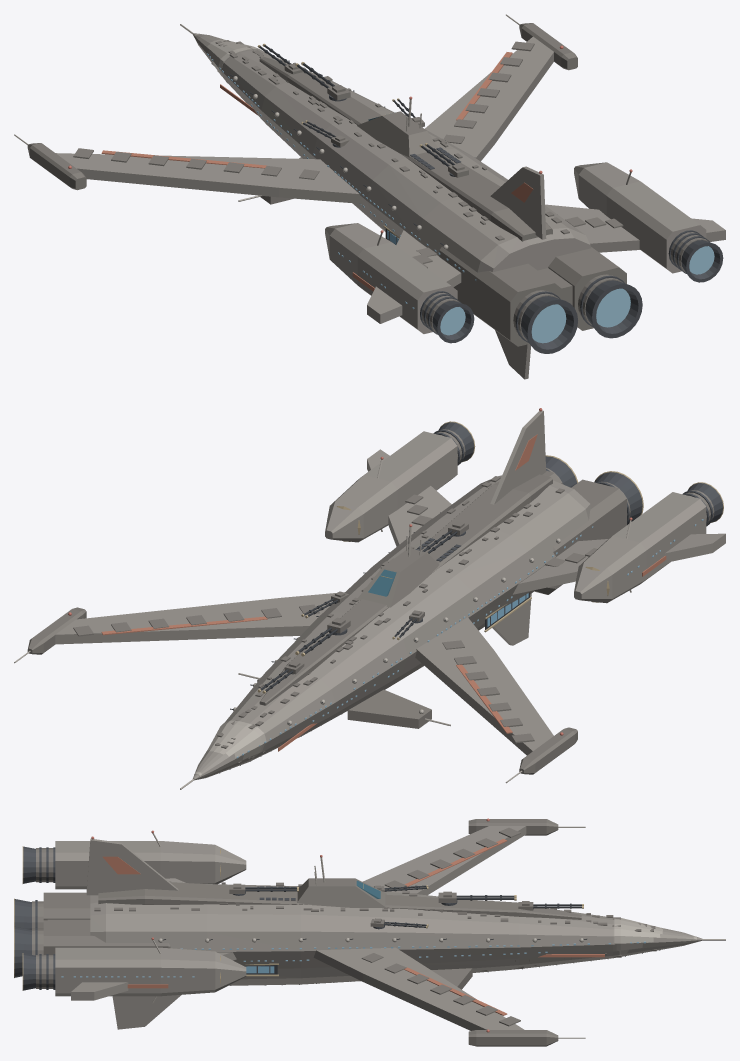
The model's file is rayzine-raptor.glb.
3 renders of one model, top to bottom at view 1: azimuth 30°, elevation 25°; view 2: azimuth 150°, elevation 25°; view 3: azimuth 270°, elevation 25°, orthographic. The views are drawn at different scales.
Parts seen in each view (by area): view 1: main_hull_000, wing_000, nacelle_000, drive_pod_000, upper_deck_000, engine_bell_000, hull_plate_000, engine_glow_000, missile_pod_000, dorsal_fin_000, command_block_000, engine_housing_000 (+6 smaller); view 2: main_hull_000, wing_000, nacelle_000, upper_deck_000, hull_plate_000, drive_pod_000, engine_bell_000, missile_pod_000, dorsal_fin_000, canard_000, command_block_000, prow_plate_000 (+4 smaller); view 3: main_hull_000, nacelle_000, wing_000, upper_deck_000, drive_pod_000, hull_plate_000, dorsal_fin_000, missile_pod_000, engine_bell_000, command_block_000, engine_housing_000, ventral_fin_000 (+8 smaller).
Part boxes in pixels (left/top/right/bottom): main_hull_000: left=192, top=33, right=591, bottom=272; wing_000: left=55, top=36, right=725, bottom=323; nacelle_000: left=325, top=162, right=706, bottom=333; drive_pod_000: left=439, top=247, right=626, bottom=346; upper_deck_000: left=259, top=57, right=552, bottom=241; engine_bell_000: left=432, top=240, right=723, bottom=353; hull_plate_000: left=73, top=40, right=623, bottom=268; engine_glow_000: left=440, top=246, right=714, bottom=343; missile_pod_000: left=27, top=23, right=577, bottom=190; dorsal_fin_000: left=490, top=166, right=546, bottom=239; command_block_000: left=357, top=111, right=437, bottom=157; engine_housing_000: left=422, top=232, right=708, bottom=340; main_hull_000: left=193, top=475, right=591, bottom=780; wing_000: left=55, top=449, right=725, bottom=755; nacelle_000: left=325, top=431, right=706, bottom=603; upper_deck_000: left=259, top=474, right=552, bottom=705; hull_plate_000: left=73, top=476, right=596, bottom=764; drive_pod_000: left=533, top=470, right=626, bottom=594; engine_bell_000: left=438, top=422, right=723, bottom=524; missile_pod_000: left=27, top=607, right=577, bottom=774; dorsal_fin_000: left=490, top=410, right=546, bottom=504; canard_000: left=257, top=677, right=431, bottom=728; command_block_000: left=357, top=548, right=439, bottom=607; prow_plate_000: left=194, top=720, right=266, bottom=776; main_hull_000: left=90, top=884, right=702, bottom=985; nacelle_000: left=55, top=841, right=246, bottom=996; wing_000: left=71, top=826, right=526, bottom=1030; upper_deck_000: left=98, top=882, right=581, bottom=919; drive_pod_000: left=43, top=892, right=170, bottom=954; hull_plate_000: left=94, top=827, right=656, bottom=1026; dorsal_fin_000: left=86, top=838, right=178, bottom=895; missile_pod_000: left=468, top=819, right=558, bottom=1046; engine_bell_000: left=14, top=846, right=35, bottom=990; command_block_000: left=297, top=878, right=386, bottom=907; engine_housing_000: left=32, top=848, right=53, bottom=988; ventral_fin_000: left=112, top=994, right=181, bottom=1029.
Bounding box in the file's own units: 6.58 × 2.72 × 9.13.
